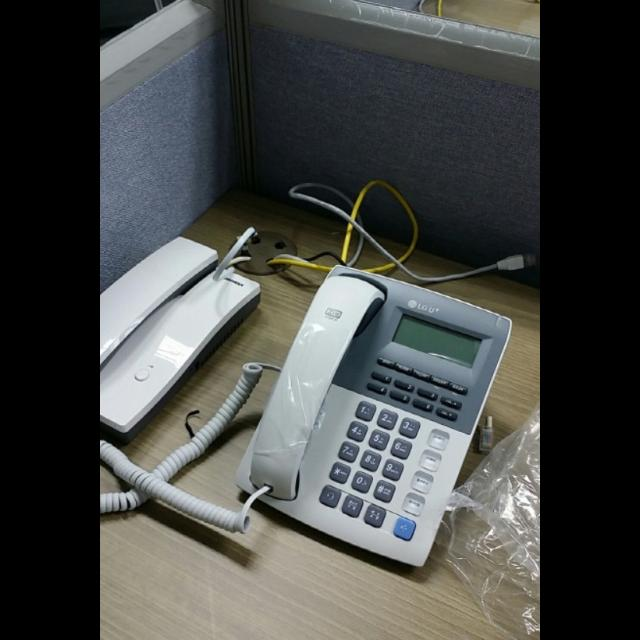Telephone-Set: (238, 262, 512, 570)
